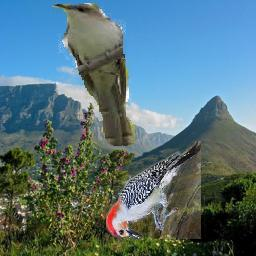Cuckoo: (53, 2, 136, 150)
Woodpecker: (107, 141, 202, 239)
